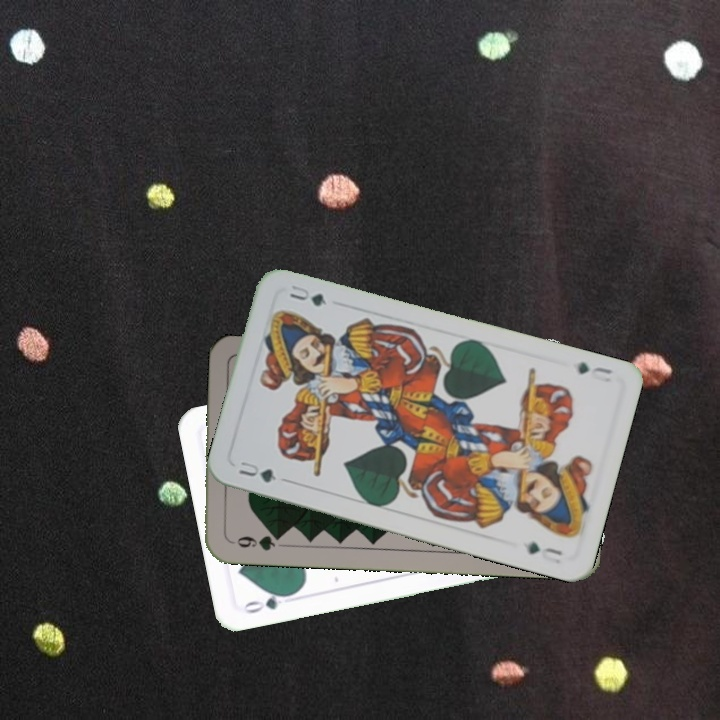G9: (225, 530, 285, 553)
GO: (240, 588, 296, 616)
GU: (235, 457, 279, 486), (573, 357, 615, 385)
